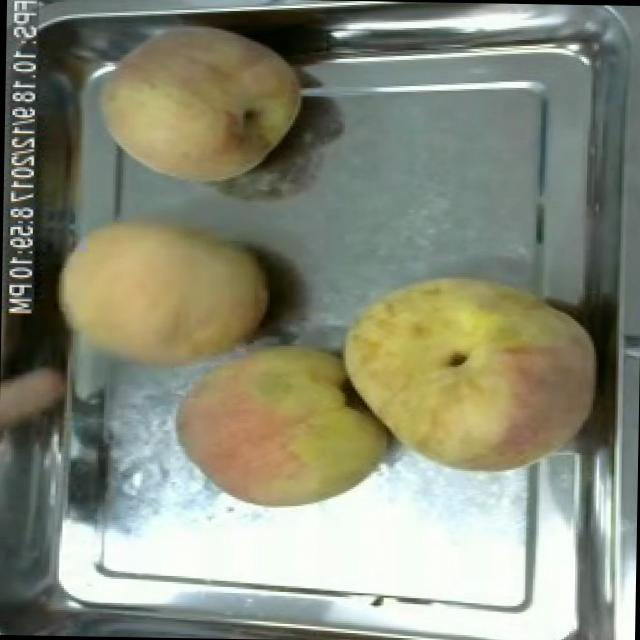Fruit: (329, 262, 609, 487), (39, 197, 280, 385), (79, 10, 312, 200), (165, 330, 394, 518)
